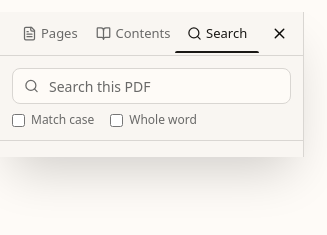
Test: PdfReaderSidebar › clears the query, cancels search work, and restores input focus
The image size is (327, 235).
Type "distance" into the search field with placeholder "Search this PDF".
click(152, 86); type("distance")  # box [12,68,291,104]
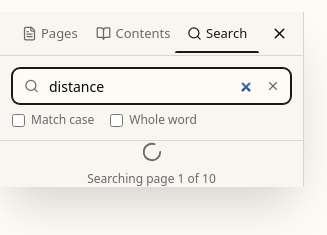
Click the button named "Clear search".
click(273, 86)  # box [261,74,285,98]
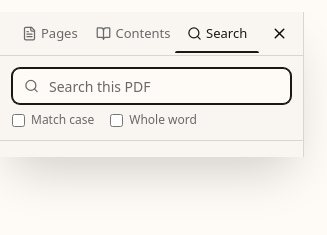
Now the search field with placeholder "Search this PDF" is empty, box [12,68,291,104]
